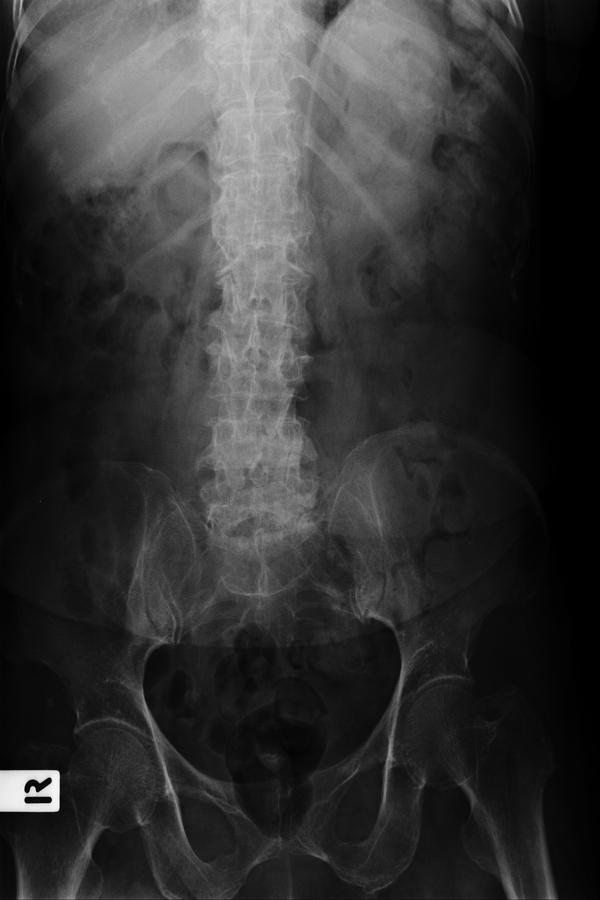lumbar scoliosis: (192, 10, 320, 568)
